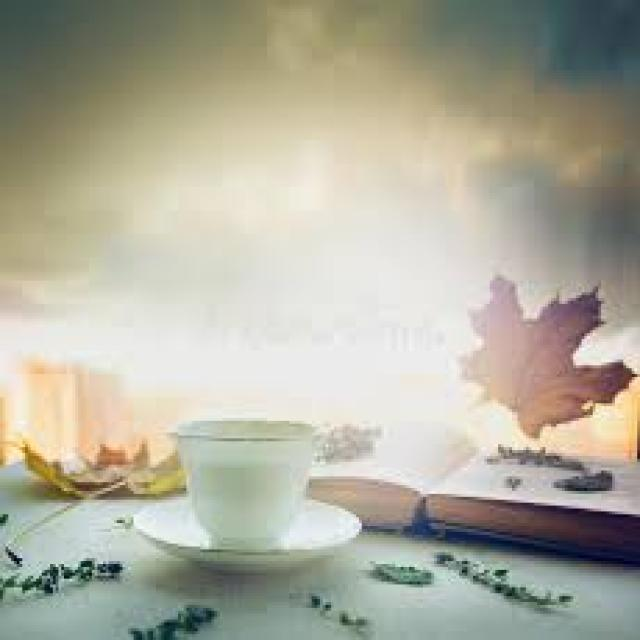taza: (145, 406, 332, 550)
